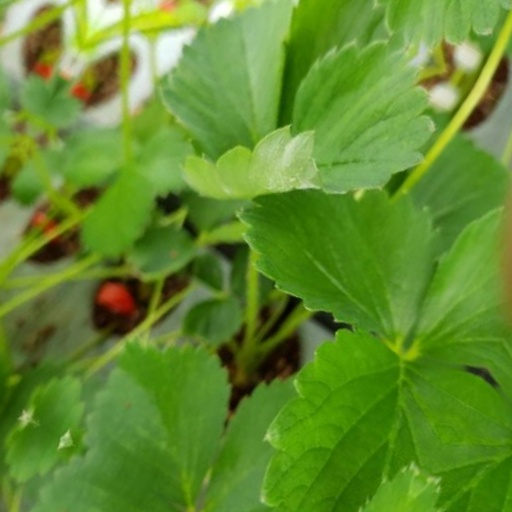Powdery Mildew Leaf: (156, 280, 371, 511)
